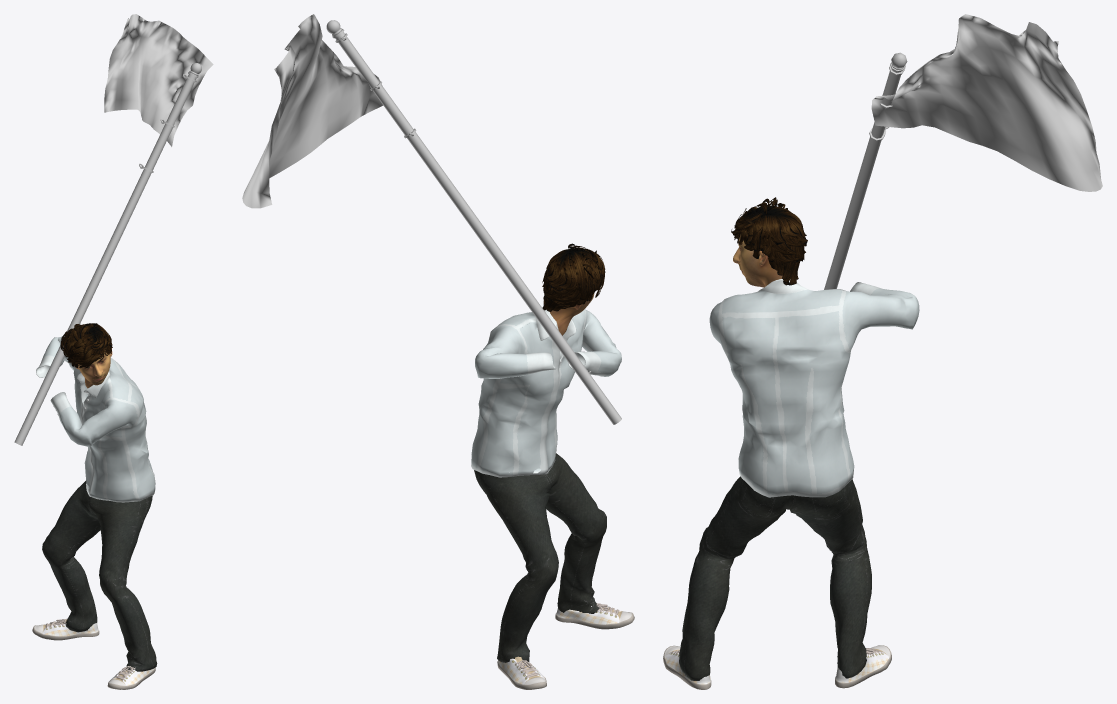
Rendered from oren_flag_v3.fbx.
The picture shows the model from 3 angles, left to right: view 1: azimuth 30°, elevation 25°; view 2: azimuth 150°, elevation 25°; view 3: azimuth 270°, elevation 25°; orthographic projection. The views are drawn at different scales.
Parts seen in each view (by area): view 1: Bottoms, Tops, Object_12, FlagPole_FlagPole1_0, Object001, Shoes, default001; view 2: Tops, Bottoms, Object_12, FlagPole_FlagPole1_0, Object001, Shoes; view 3: Tops, Object_12, Bottoms, Object001, FlagPole_FlagPole1_0, Shoes, default001.
Boxes of the visible parts, bbox=[...] form: Bottoms: bbox=[42, 480, 157, 671]; Tops: bbox=[36, 336, 155, 502]; Object_12: bbox=[104, 14, 213, 146]; FlagPole_FlagPole1_0: bbox=[14, 63, 201, 445]; Object001: bbox=[60, 323, 112, 368]; Shoes: bbox=[32, 618, 155, 689]; default001: bbox=[76, 348, 112, 388]; Tops: bbox=[471, 309, 621, 477]; Bottoms: bbox=[474, 453, 606, 662]; Object_12: bbox=[242, 14, 382, 208]; FlagPole_FlagPole1_0: bbox=[326, 20, 621, 424]; Object001: bbox=[542, 243, 605, 311]; Shoes: bbox=[497, 603, 634, 689]; Tops: bbox=[709, 279, 919, 497]; Object_12: bbox=[871, 14, 1102, 191]; Bottoms: bbox=[679, 476, 871, 680]; Object001: bbox=[731, 197, 807, 285]; FlagPole_FlagPole1_0: bbox=[824, 52, 907, 289]; Shoes: bbox=[663, 645, 891, 689]; default001: bbox=[733, 234, 782, 287].
Bounding box in the file's own units: 124 × 282 × 150.
